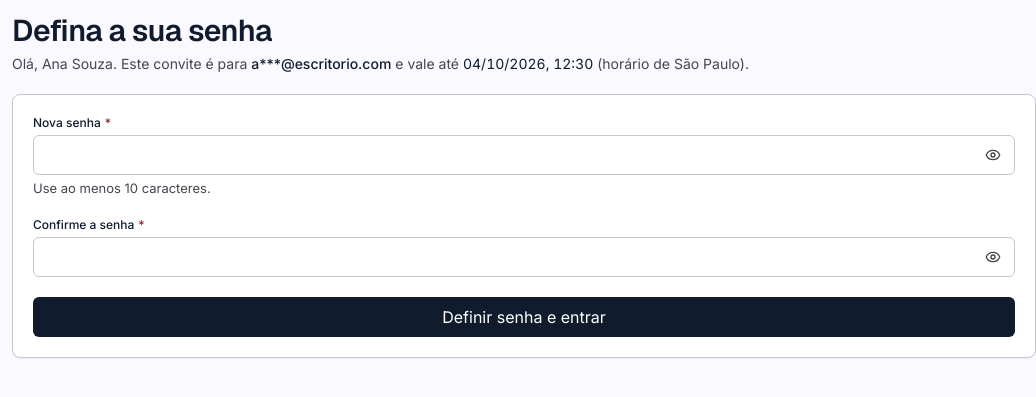
Scenario: definição da senha › confirmação diferente da senha é recusada no campo da confirmação
The image size is (1036, 397).
Type "senha-bem-longa-123" into the password field labelled "Nova senha*" at x=524, y=155, box [33,135,1015,175]
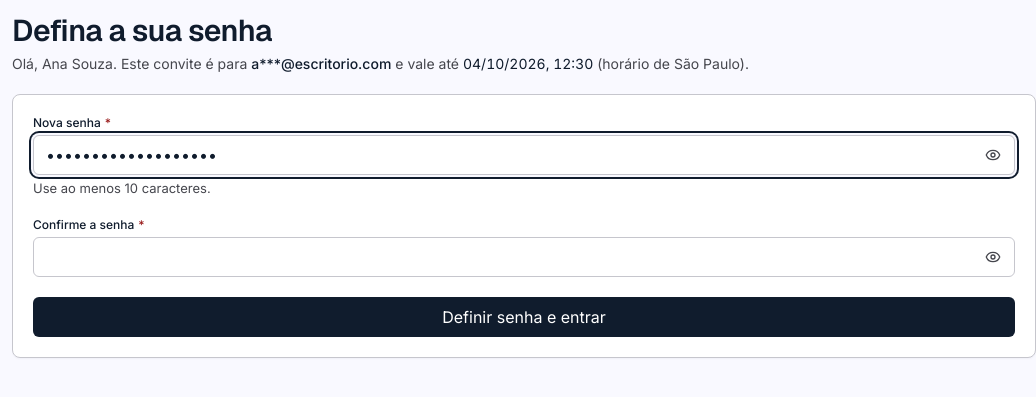
Type "outra-senha-longa-1" into the password field labelled "Confirme a senha*" at x=524, y=257, box [33,237,1015,277]
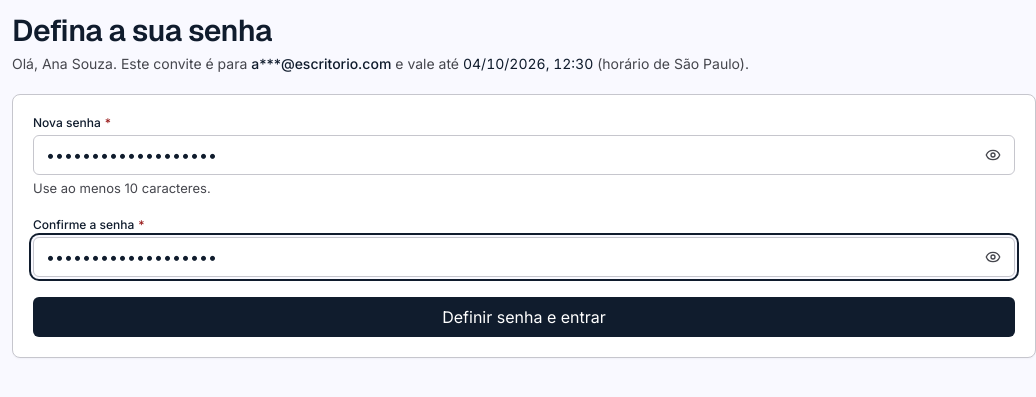
Click the button "Definir senha e entrar" at x=524, y=317, box [33,297,1015,337]
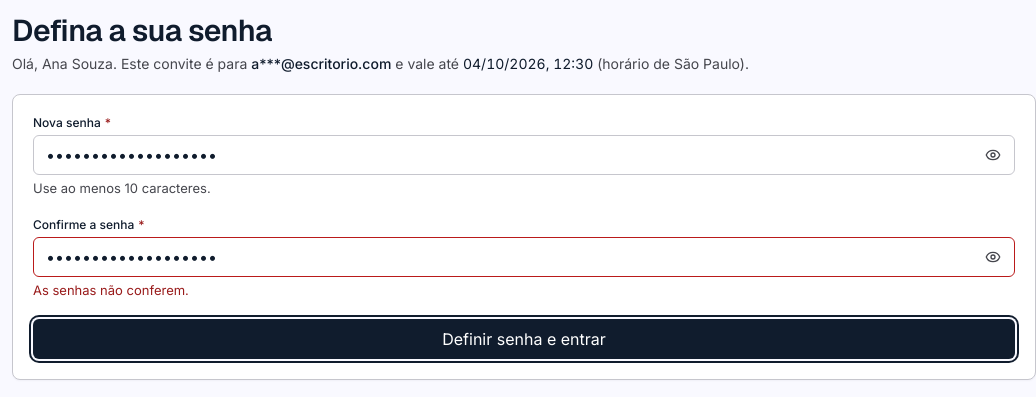
Result: the text "As senhas não conferem." is shown at [33,282,189,298]
